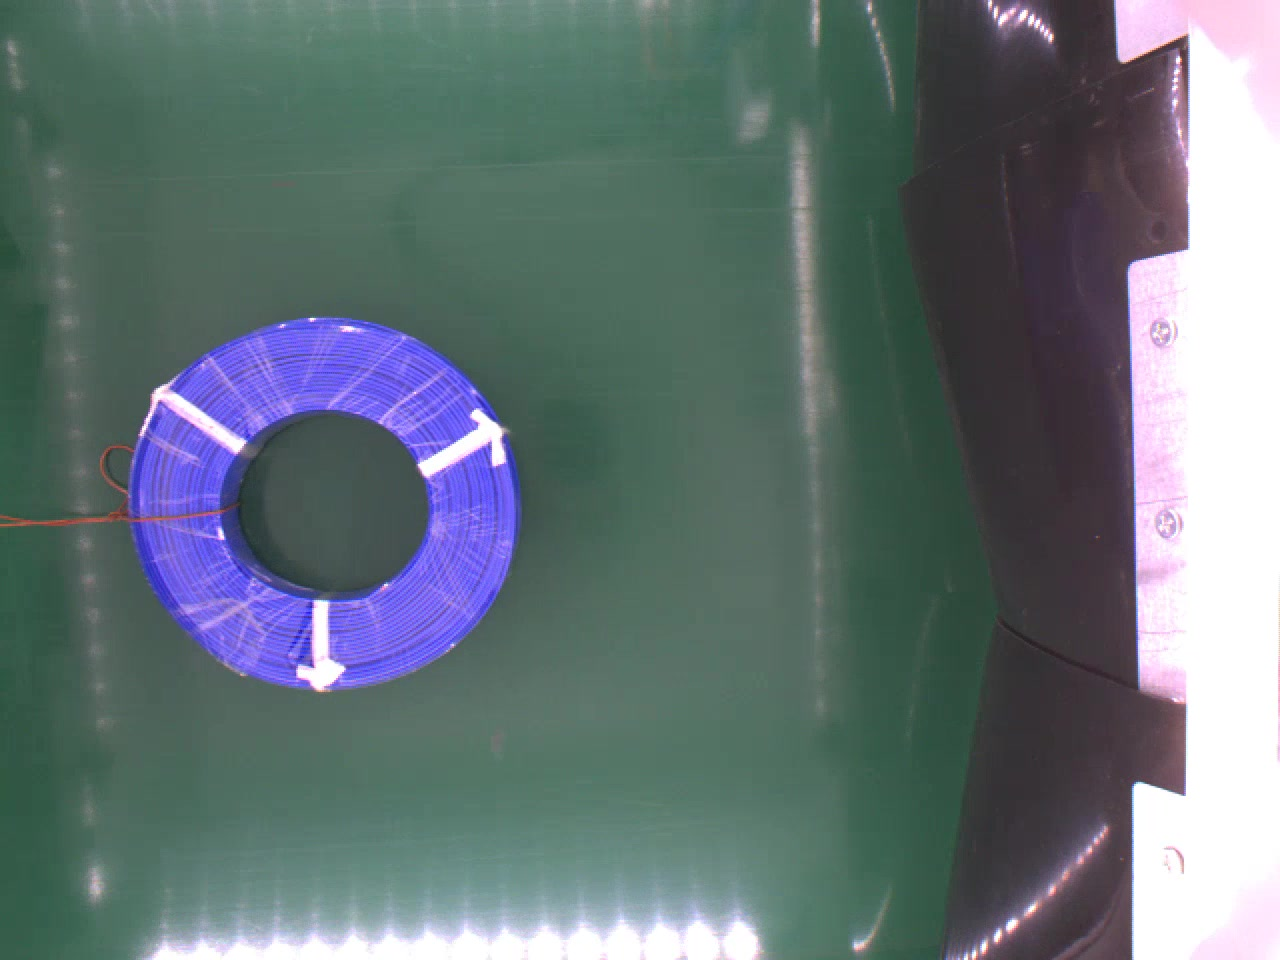blue: (127, 312, 519, 690)
